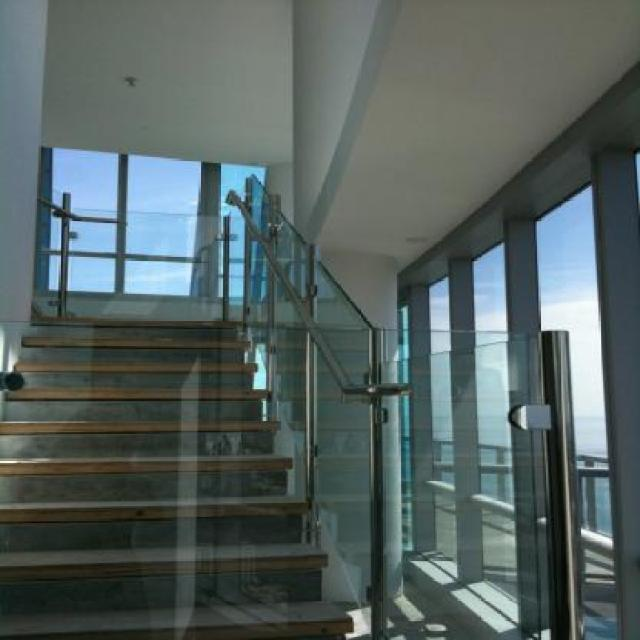stair: (0, 314, 354, 640)
